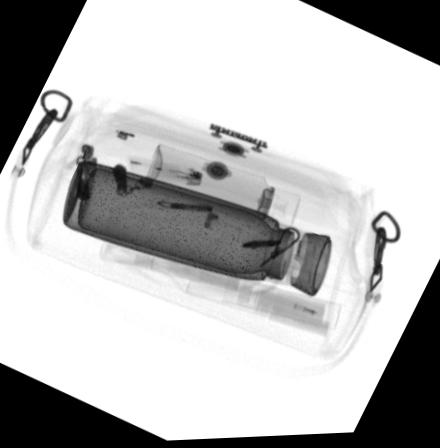Lighter: (127, 155, 204, 190)
Sprayer: (145, 143, 301, 234)
